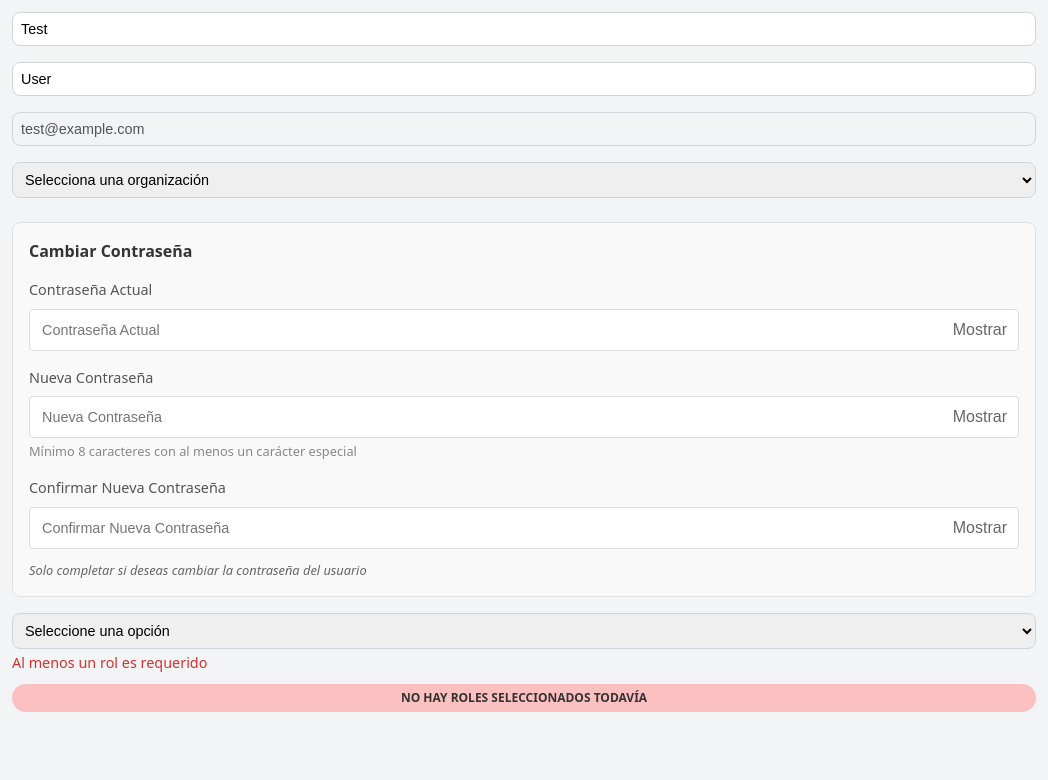
UserFormModalContent - Missing Coverage Lines › Password Validation › covers lines 159: new password cannot be same as current password
The width and height of the screenshot is (1048, 780).
// Set current password
Type "samePassword123!" into the password field with placeholder "Contraseña Actual".
click(524, 330); type("samePassword123!")  # box [29,309,1019,351]
Wait 100 ms
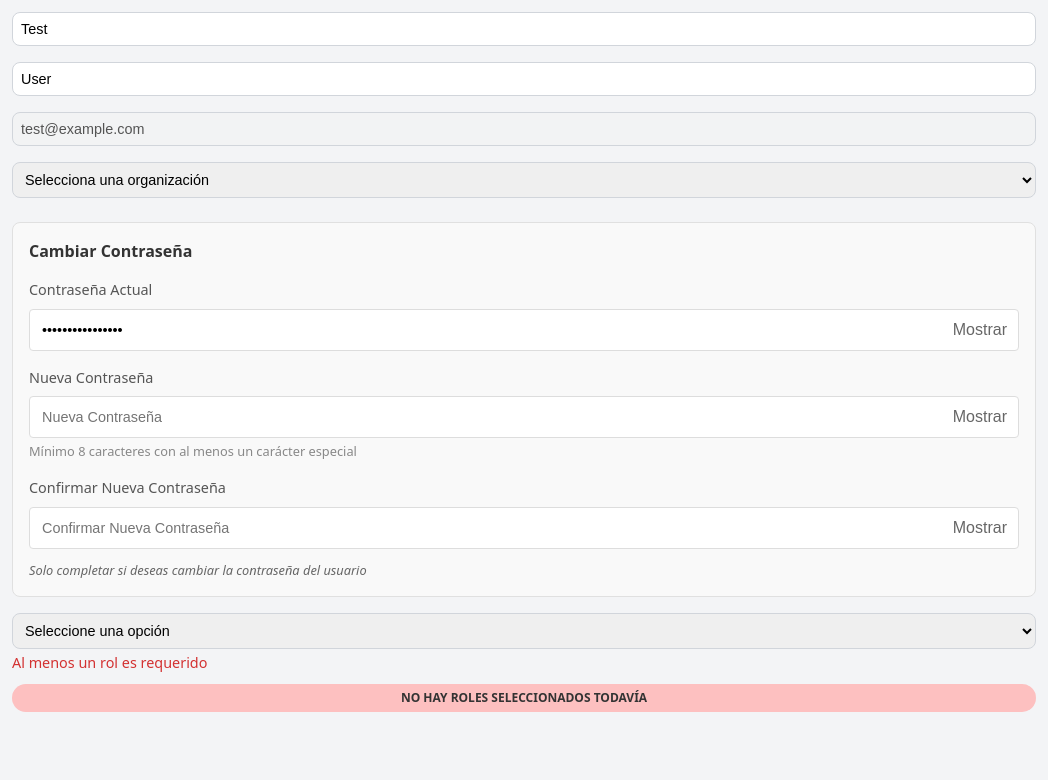
// Try to set new password same as current
Type "samePassword123!" into the password field with placeholder "Nueva Contraseña".
click(524, 417); type("samePassword123!")  # box [29,396,1019,438]
Wait 100 ms
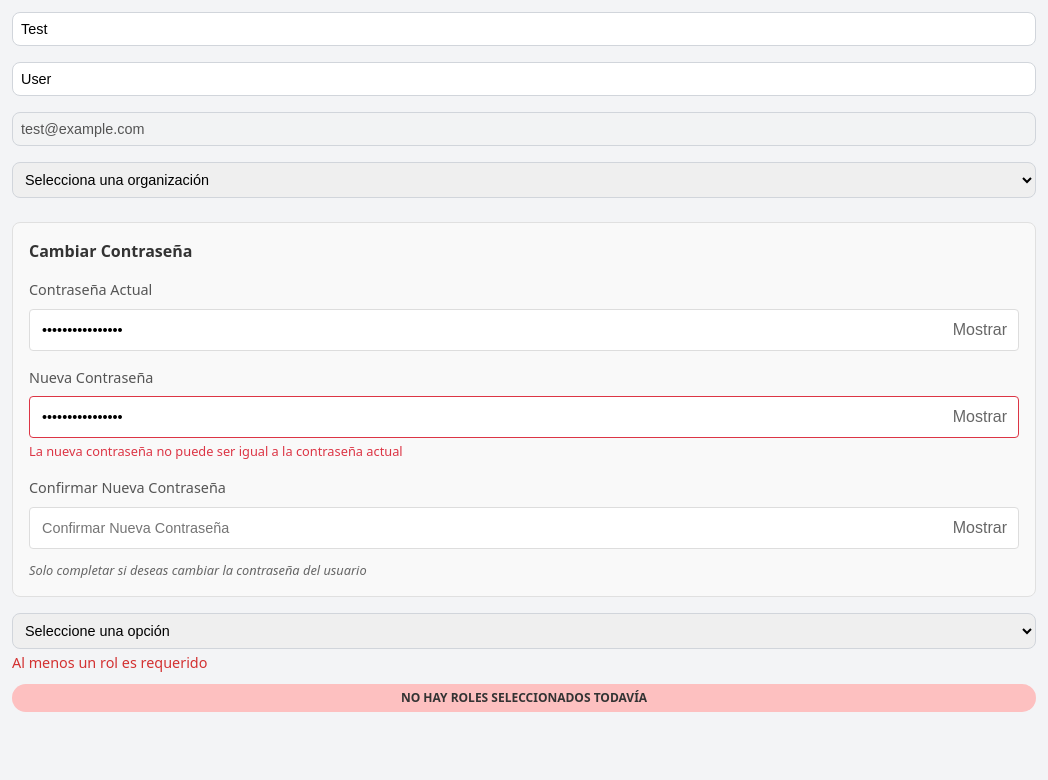
Result: the text "La nueva contraseña no puede ser igual a la contraseña actual" is shown at [29,442,403,460]
